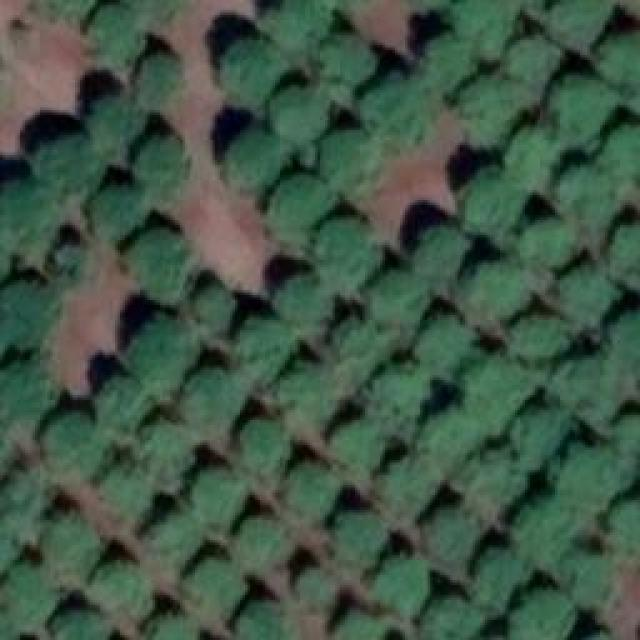Tree: (133, 313, 198, 398), (465, 352, 535, 430), (550, 75, 618, 145), (552, 450, 630, 508), (320, 218, 380, 293), (370, 73, 428, 146), (218, 43, 281, 108), (135, 227, 195, 295), (2, 277, 60, 345), (0, 177, 58, 245), (43, 415, 103, 480), (468, 263, 528, 328), (560, 263, 618, 328), (465, 455, 530, 513), (472, 548, 530, 613), (265, 175, 335, 228), (378, 365, 431, 435), (185, 375, 243, 438), (335, 315, 393, 378), (238, 325, 291, 393), (220, 135, 280, 195), (273, 280, 333, 340), (558, 168, 618, 228), (418, 418, 478, 478), (50, 133, 105, 198), (233, 520, 298, 575), (328, 512, 388, 570), (333, 420, 386, 485), (550, 358, 618, 408), (140, 430, 198, 488), (380, 273, 433, 336), (515, 508, 578, 561), (325, 133, 380, 193), (190, 563, 245, 623), (0, 357, 52, 420), (513, 590, 578, 640), (460, 88, 518, 143), (285, 365, 340, 423), (517, 220, 575, 275), (417, 320, 475, 375), (273, 85, 333, 138), (563, 555, 623, 608), (265, 0, 328, 50), (93, 95, 146, 153), (465, 178, 523, 231), (377, 470, 435, 523), (90, 185, 145, 240), (375, 550, 430, 605), (52, 518, 100, 581), (3, 470, 46, 540), (510, 130, 560, 190), (90, 5, 145, 58), (198, 468, 251, 523), (103, 377, 153, 435), (423, 37, 473, 95), (7, 565, 55, 625), (140, 138, 193, 191), (508, 40, 561, 93), (100, 563, 153, 616), (135, 55, 185, 110), (323, 35, 376, 85), (153, 513, 203, 566), (285, 468, 338, 518), (465, 0, 518, 48), (245, 418, 293, 471), (518, 410, 568, 460), (555, 0, 610, 45), (102, 473, 150, 523), (418, 225, 468, 273), (602, 30, 640, 93), (435, 508, 480, 558), (418, 605, 481, 640), (240, 602, 298, 640), (600, 125, 640, 178), (510, 317, 565, 355), (607, 494, 640, 557), (57, 607, 112, 640), (610, 310, 640, 370), (52, 240, 90, 283), (198, 285, 233, 330), (607, 225, 640, 272), (300, 570, 338, 610), (338, 612, 383, 640), (147, 617, 200, 640), (33, 0, 106, 15), (617, 412, 640, 455), (0, 607, 15, 640)
